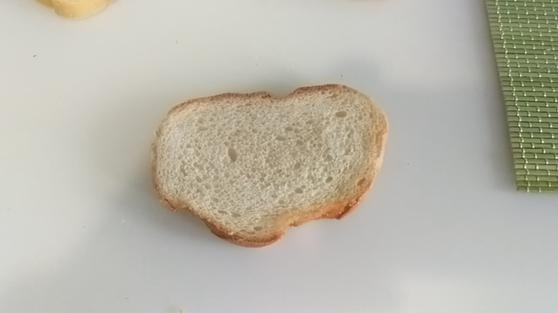white_bread: (159, 85, 386, 249)
